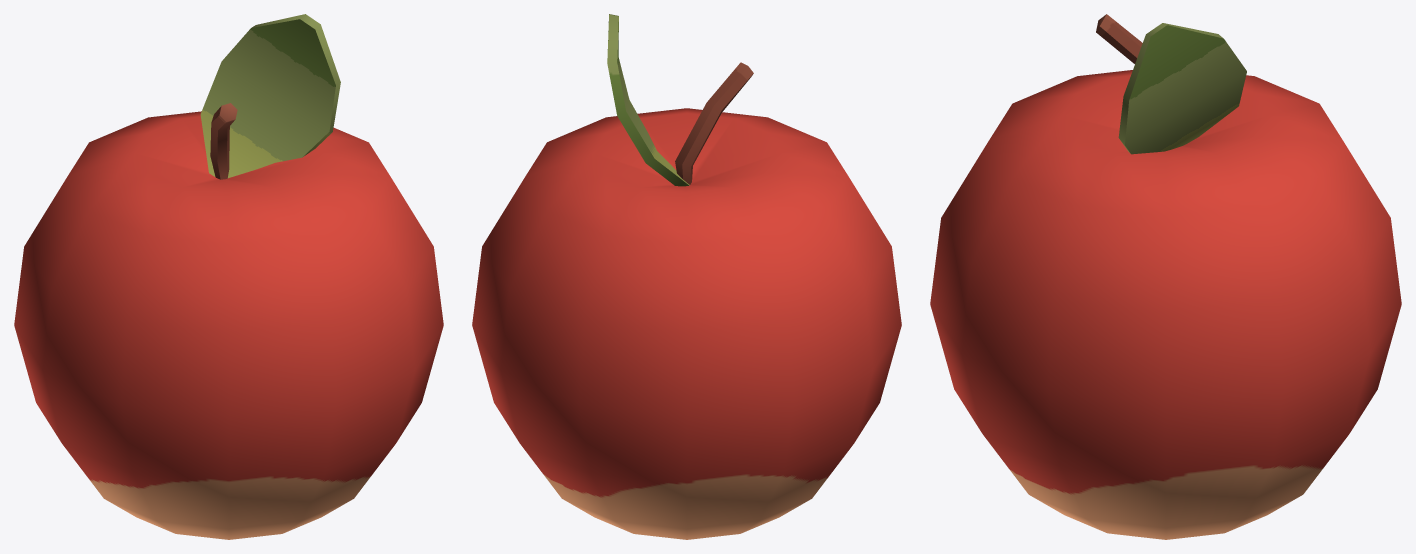
The model's file is apple.fbx.
3 views of the same model, side by side, from view 1: azimuth 30°, elevation 25°; view 2: azimuth 150°, elevation 25°; view 3: azimuth 270°, elevation 25° (orthographic). The views are drawn at different scales.
Parts seen in each view (by area): view 1: apple; view 2: apple; view 3: apple.
Boxes of the visible parts, x1,y1,x2,y2 form: apple: (14,14,443,539); apple: (472,14,901,539); apple: (930,14,1401,539).
Bounding box in the file's own units: 2.61 × 3.13 × 2.61.
Materials: 1 (1 with a texture image).
